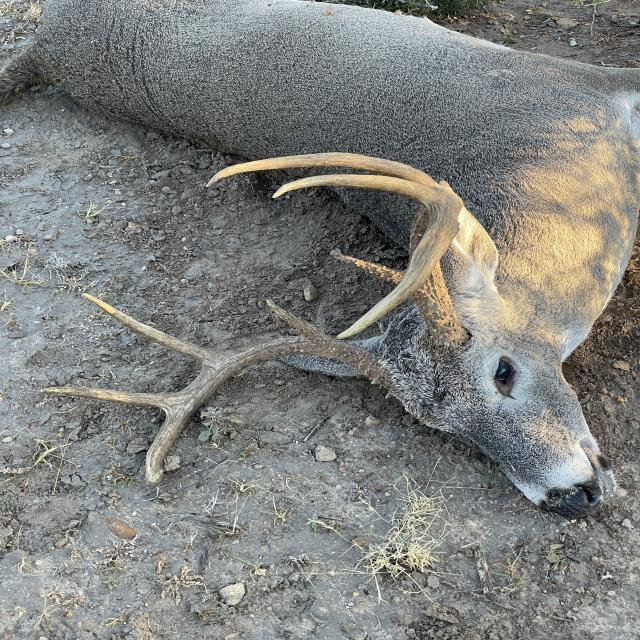R-F: (143, 334, 390, 484)
R-G1: (265, 300, 324, 340)
R-G2: (83, 293, 217, 367)
R-G3: (39, 386, 176, 414)
